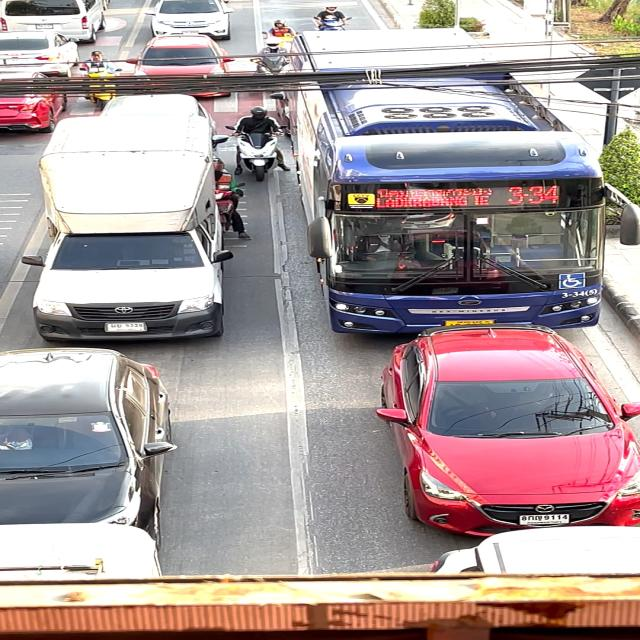car: (279, 35, 601, 343), (344, 308, 640, 534), (30, 102, 248, 346), (0, 347, 155, 533)
